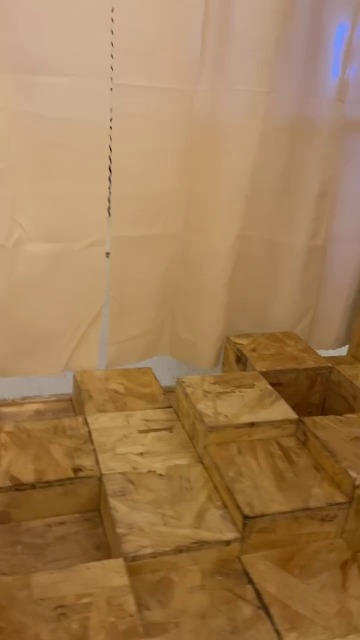curtain: (0, 0, 360, 371)
